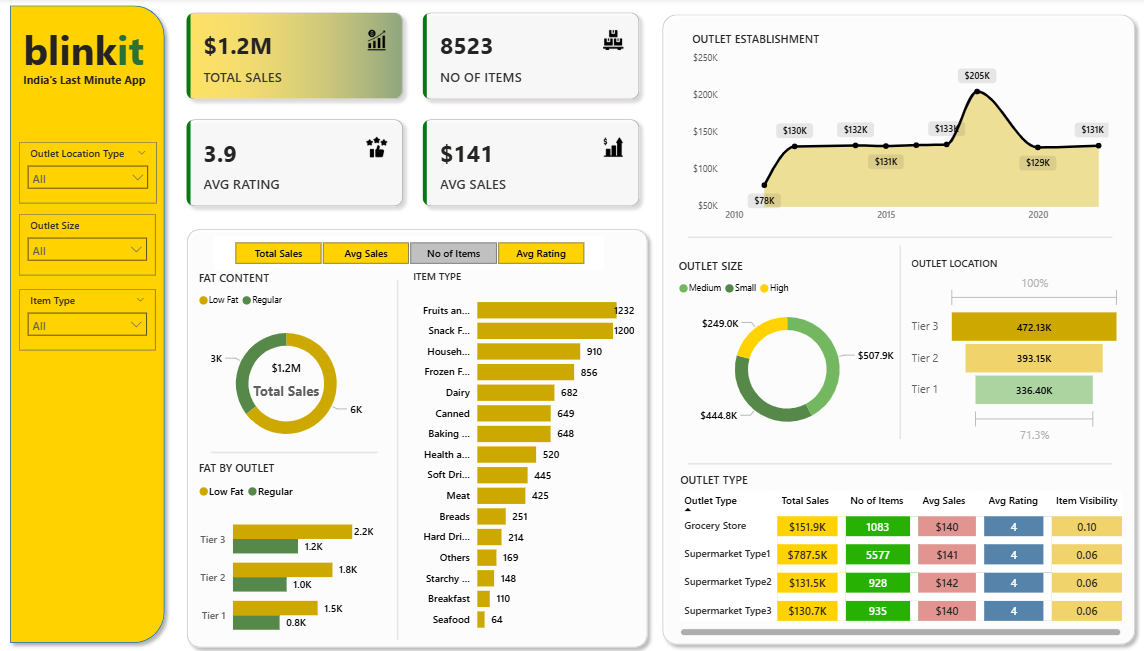

Layout of this report page (visuals, bound fields, positions):
{"tool":"powerbi","page":{"name":"Page 1","canvas":[1400,800],"ordinal":0},"visuals":[{"type":"shape","box":[9,0,204.2,773.5],"z":0},{"type":"textbox","box":[28.9,22.7,165.4,78.5],"z":1000},{"type":"textbox","box":[28.9,83.1,164.5,39.8],"z":2000},{"type":"cardVisual","fields":{"Data":["BlinkIT Grocery Data.Total Sales","BlinkIT Grocery Data.No of Items","BlinkIT Grocery Data.Avg Rating","BlinkIT Grocery Data.Avg Sales"]},"box":[213.3,0,581.9,269.3],"z":3000},{"type":"shape","box":[222.3,269.3,572.9,522.3],"z":4000},{"type":"donutChart","title":"FAT CONTENT","fields":{"Y":["BlinkIT Grocery Data.No of Items"],"Category":["BlinkIT Grocery Data.Item Fat Content"]},"box":[240.4,327.1,220.5,229.5],"z":5000},{"type":"slicer","fields":{"Values":["Metrics.Metrics"]},"box":[263.9,287.4,469.9,39.8],"z":6000},{"type":"card","fields":{"Values":["BlinkIT Grocery Data.Total Sales"]},"box":[300,428.3,101.2,59.6],"z":7000},{"type":"clusteredBarChart","title":"FAT BY OUTLET","fields":{"Y":["BlinkIT Grocery Data.No of Items"],"Category":["BlinkIT Grocery Data.Outlet Location Type"],"Series":["BlinkIT Grocery Data.Item Fat Content"]},"box":[240.4,556.6,220.5,229.5],"z":8000},{"type":"shape","box":[260.2,531.3,200.6,32.5],"z":9000},{"type":"shape","box":[478.9,339.8,12.7,433.7],"z":10000},{"type":"barChart","title":"ITEM TYPE","fields":{"Y":["BlinkIT Grocery Data.No of Items"],"Category":["BlinkIT Grocery Data.Item Type"]},"box":[498.8,327.1,276.5,446.4],"z":11000},{"type":"shape","box":[795.2,10.8,587.4,777.1],"z":12000},{"type":"lineChart","title":"OUTLET ESTABLISHMENT","fields":{"Category":["BlinkIT Grocery Data.Outlet Establishment Year"],"Y":["BlinkIT Grocery Data.Total Sales"]},"box":[835,39.8,511.5,238.6],"z":13000},{"type":"shape","box":[835,278.3,511.5,19.9],"z":14000},{"type":"donutChart","title":"OUTLET SIZE","fields":{"Y":["BlinkIT Grocery Data.Total Sales"],"Category":["BlinkIT Grocery Data.Outlet Size"]},"box":[818.7,312.7,271.1,224.1],"z":15000},{"type":"shape","box":[1084.4,298.2,12.7,233.1],"z":16000},{"type":"funnel","title":"OUTLET LOCATION","fields":{"Y":["Sum(BlinkIT Grocery Data.Sales)"],"Category":["BlinkIT Grocery Data.Outlet Location Type"]},"box":[1098.8,310.9,262.1,229.5],"z":17000},{"type":"shape","box":[835,551.2,511.5,19.9],"z":18000},{"type":"pivotTable","title":"OUTLET TYPE","fields":{"Rows":["BlinkIT Grocery Data.Outlet Type"],"Values":["BlinkIT Grocery Data.Total Sales","BlinkIT Grocery Data.No of Items","BlinkIT Grocery Data.Avg Sales","BlinkIT Grocery Data.Avg Rating","Avg(BlinkIT Grocery Data.Item Visibility)"]},"box":[820.5,571.1,542.2,202.4],"z":19000},{"type":"slicer","fields":{"Values":["BlinkIT Grocery Data.Outlet Location Type"]},"box":[28.9,173.5,166.3,74.1],"z":19001},{"type":"slicer","fields":{"Values":["BlinkIT Grocery Data.Outlet Size"]},"box":[28.9,260.2,164.5,74.1],"z":19002},{"type":"slicer","fields":{"Values":["BlinkIT Grocery Data.Item Type"]},"box":[28.9,350.6,164.5,74.1],"z":19003}]}

Visuals, with their boxes in screenshot pixels (x1, y1, x2, y2), scaled from the page's 1400x800 canvas onto the 1144x651 screenshot:
shape: box(7, 0, 174, 629)
textbox: box(24, 18, 159, 82)
textbox: box(24, 68, 158, 100)
cardVisual - BlinkIT Grocery Data.Total Sales x BlinkIT Grocery Data.No of Items: box(174, 0, 650, 219)
shape: box(182, 219, 650, 644)
"FAT CONTENT" donutChart: box(196, 266, 377, 453)
slicer - Metrics.Metrics: box(216, 234, 600, 266)
card - BlinkIT Grocery Data.Total Sales: box(245, 349, 328, 397)
"FAT BY OUTLET" clusteredBarChart: box(196, 453, 377, 640)
shape: box(213, 432, 377, 459)
shape: box(391, 277, 402, 629)
"ITEM TYPE" barChart: box(408, 266, 634, 629)
shape: box(650, 9, 1130, 641)
"OUTLET ESTABLISHMENT" lineChart: box(682, 32, 1100, 227)
shape: box(682, 226, 1100, 243)
"OUTLET SIZE" donutChart: box(669, 254, 891, 437)
shape: box(886, 243, 896, 432)
"OUTLET LOCATION" funnel: box(898, 253, 1112, 440)
shape: box(682, 449, 1100, 465)
"OUTLET TYPE" pivotTable: box(670, 465, 1114, 629)
slicer - BlinkIT Grocery Data.Outlet Location Type: box(24, 141, 160, 201)
slicer - BlinkIT Grocery Data.Outlet Size: box(24, 212, 158, 272)
slicer - BlinkIT Grocery Data.Item Type: box(24, 285, 158, 346)
